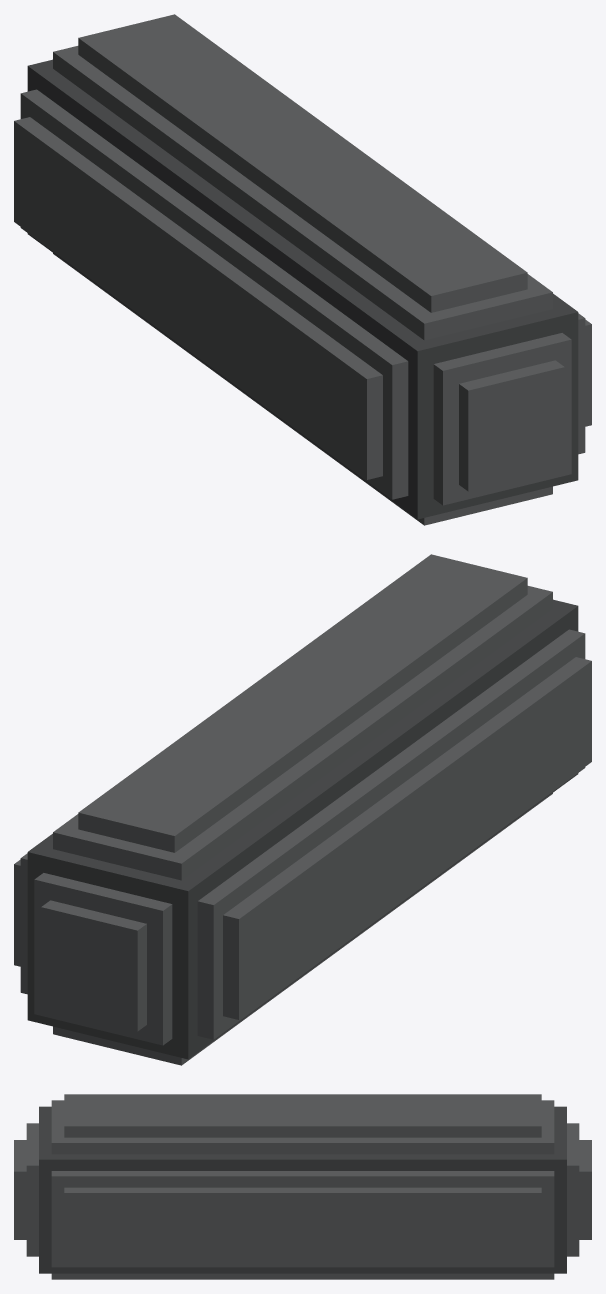
Rendered from heavy_external_fuel_tank.obj.
3 renders of one model, top to bottom at view 1: azimuth 30°, elevation 25°; view 2: azimuth 150°, elevation 25°; view 3: azimuth 270°, elevation 25°, orthographic. The views are drawn at different scales.
Visible parts, largest first — view 1: cube8, cube5, cube1, cube74, cube42, cube3, cube2, cube53, cube6, cube7; view 2: cube8, cube5, cube1, cube74, cube42, cube4, cube31, cube53, cube6, cube7; view 3: cube7, cube5, cube1, cube6, cube42, cube53, cube2, cube31, cube4, cube3.
Part boxes in pixels (bbox=[...]): cube8: bbox=[14, 117, 382, 479]; cube5: bbox=[78, 14, 527, 312]; cube1: bbox=[27, 59, 578, 519]; cube74: bbox=[20, 89, 408, 499]; cube42: bbox=[53, 46, 552, 340]; cube3: bbox=[459, 360, 564, 491]; cube2: bbox=[433, 333, 571, 505]; cube53: bbox=[53, 253, 552, 525]; cube6: bbox=[578, 313, 585, 454]; cube7: bbox=[585, 319, 591, 426]; cube8: bbox=[223, 657, 591, 1019]; cube5: bbox=[78, 554, 527, 852]; cube1: bbox=[27, 599, 578, 1059]; cube74: bbox=[197, 629, 585, 1039]; cube42: bbox=[53, 586, 552, 880]; cube4: bbox=[41, 900, 146, 1031]; cube31: bbox=[34, 873, 172, 1045]; cube53: bbox=[53, 793, 552, 1065]; cube6: bbox=[20, 853, 27, 994]; cube7: bbox=[14, 859, 20, 966]; cube7: bbox=[64, 1187, 541, 1261]; cube5: bbox=[64, 1094, 541, 1137]; cube1: bbox=[39, 1106, 566, 1273]; cube6: bbox=[51, 1171, 554, 1267]; cube42: bbox=[51, 1100, 554, 1154]; cube53: bbox=[51, 1273, 554, 1279]; cube2: bbox=[26, 1123, 38, 1256]; cube31: bbox=[567, 1123, 579, 1256]; cube4: bbox=[579, 1140, 591, 1239]; cube3: bbox=[14, 1140, 26, 1239].
Size of the model in its own units: 0.875 by 0.875 by 2.88.
